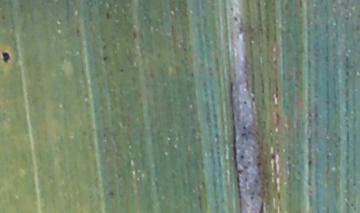tarspot: (1, 51, 11, 63), (107, 188, 114, 198), (255, 160, 263, 168), (105, 9, 110, 21), (233, 14, 239, 23), (102, 55, 109, 62), (241, 99, 248, 106), (234, 169, 245, 173), (248, 195, 255, 201), (240, 153, 245, 159), (242, 125, 247, 130), (242, 133, 247, 137)
